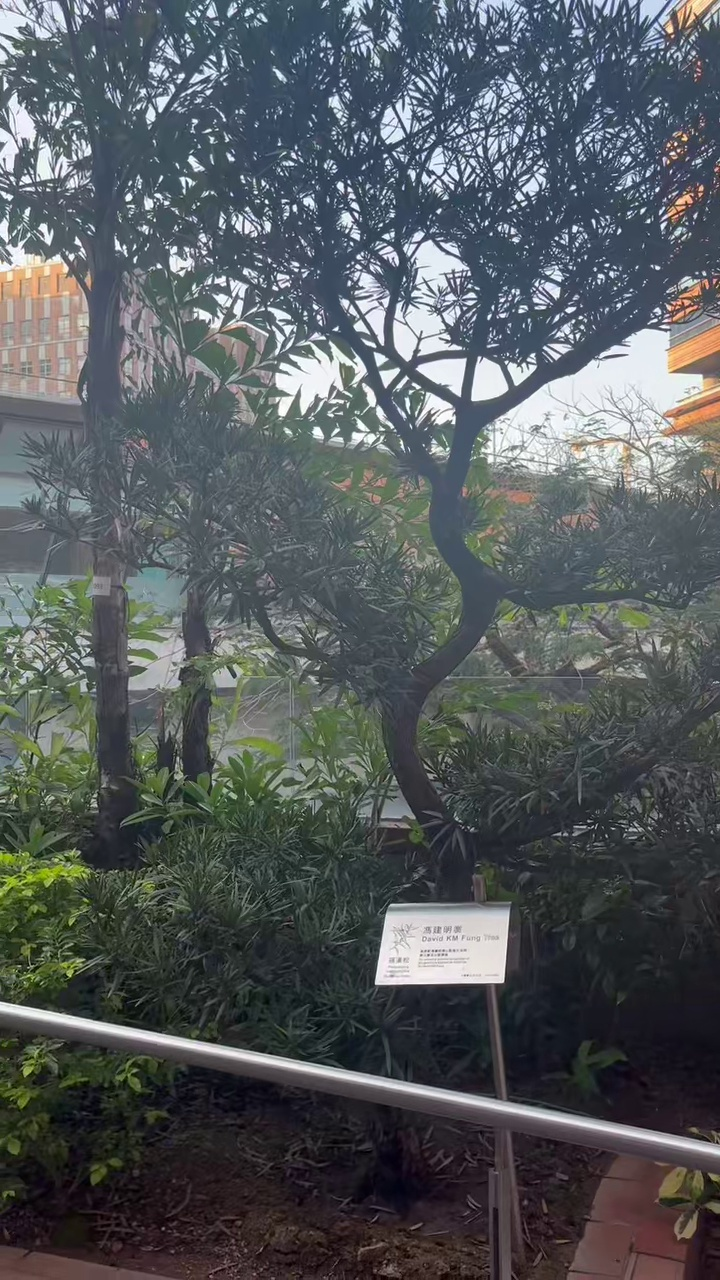Podocarpus macrophyllus: (40, 0, 719, 899)
